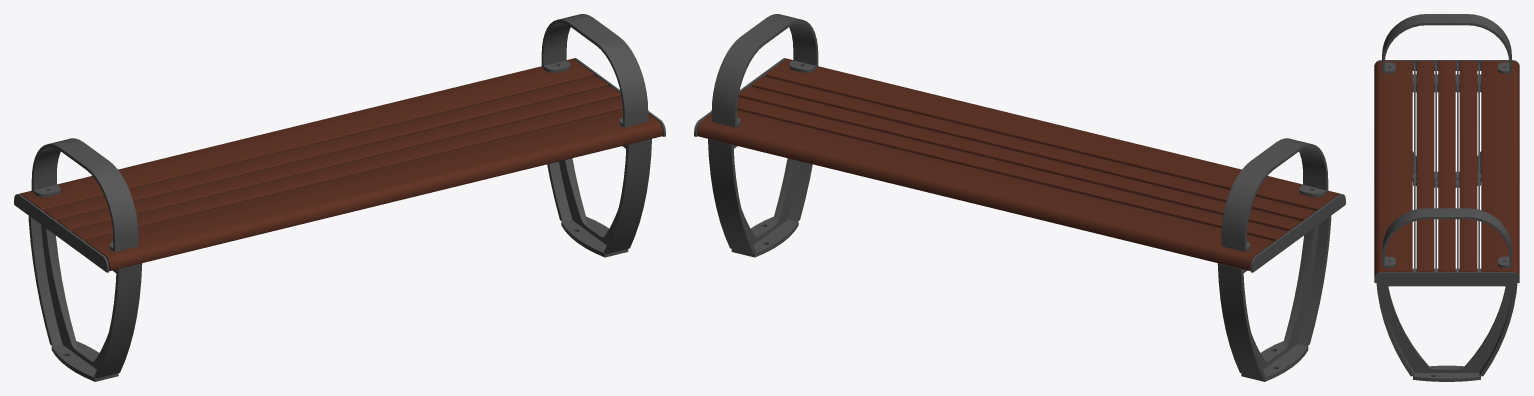
The picture shows the model from 3 angles, left to right: view 1: azimuth 30°, elevation 25°; view 2: azimuth 150°, elevation 25°; view 3: azimuth 270°, elevation 25°; orthographic projection. The views are drawn at different scales.
Visible parts, largest first — view 1: mesh37_mesh37-geometry, mesh34_mesh34-geometry, mesh3_mesh3-geometry, mesh52_mesh52-geometry, mesh54_mesh54-geometry, mesh40_mesh40-geometry, mesh44_mesh44-geometry, mesh15_mesh15-geometry; view 2: mesh37_mesh37-geometry, mesh34_mesh34-geometry, mesh3_mesh3-geometry, mesh54_mesh54-geometry, mesh52_mesh52-geometry, mesh40_mesh40-geometry, mesh44_mesh44-geometry, mesh15_mesh15-geometry; view 3: mesh37_mesh37-geometry, mesh34_mesh34-geometry, mesh3_mesh3-geometry, mesh40_mesh40-geometry, mesh14_mesh14-geometry, mesh44_mesh44-geometry, mesh54_mesh54-geometry, mesh52_mesh52-geometry, mesh16_mesh16-geometry, mesh17_mesh17-geometry, mesh18_mesh18-geometry, mesh19_mesh19-geometry (+4 smaller).
Part boxes in pixels (<box>): mesh37_mesh37-geometry: <box>19,58,662,270</box>; mesh34_mesh34-geometry: <box>44,76,622,241</box>; mesh3_mesh3-geometry: <box>31,14,648,251</box>; mesh52_mesh52-geometry: <box>94,139,651,378</box>; mesh54_mesh54-geometry: <box>28,158,585,346</box>; mesh40_mesh40-geometry: <box>41,159,618,369</box>; mesh44_mesh44-geometry: <box>51,216,628,381</box>; mesh15_mesh15-geometry: <box>14,194,109,272</box>; mesh37_mesh37-geometry: <box>697,58,1340,270</box>; mesh34_mesh34-geometry: <box>737,76,1315,241</box>; mesh3_mesh3-geometry: <box>711,14,1328,251</box>; mesh54_mesh54-geometry: <box>708,139,1265,378</box>; mesh52_mesh52-geometry: <box>774,158,1331,346</box>; mesh40_mesh40-geometry: <box>741,159,1318,369</box>; mesh44_mesh44-geometry: <box>731,216,1308,381</box>; mesh15_mesh15-geometry: <box>1250,194,1345,272</box>; mesh37_mesh37-geometry: <box>1374,61,1519,276</box>; mesh34_mesh34-geometry: <box>1416,61,1477,271</box>; mesh3_mesh3-geometry: <box>1382,14,1511,266</box>; mesh40_mesh40-geometry: <box>1380,89,1513,372</box>; mesh14_mesh14-geometry: <box>1374,272,1519,282</box>; mesh44_mesh44-geometry: <box>1413,171,1480,381</box>; mesh54_mesh54-geometry: <box>1479,180,1517,376</box>; mesh52_mesh52-geometry: <box>1376,180,1414,376</box>; mesh16_mesh16-geometry: <box>1435,62,1436,271</box>; mesh17_mesh17-geometry: <box>1457,62,1458,271</box>; mesh18_mesh18-geometry: <box>1414,62,1415,271</box>; mesh19_mesh19-geometry: <box>1478,62,1479,271</box>.
Bounding box in the file's own units: 0.9087 × 0.3243 × 0.2628.
